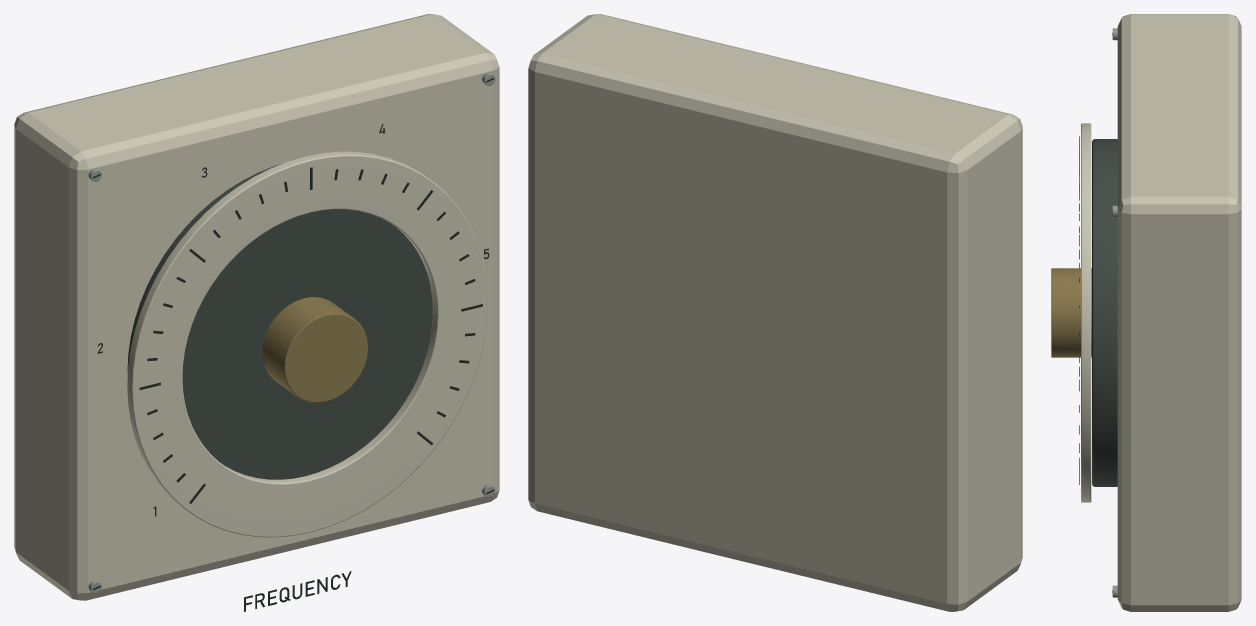
Rendered from FREQUENCY_Housing.fbx.
3 views of the same model, side by side, from view 1: azimuth 30°, elevation 25°; view 2: azimuth 150°, elevation 25°; view 3: azimuth 270°, elevation 25° (orthographic). The views are drawn at different scales.
Parts seen in each view (by area): view 1: FREQUENCY_Housing_EXPORT; view 2: FREQUENCY_Housing_EXPORT; view 3: FREQUENCY_Housing_EXPORT.
Part boxes in pixels (bbox=[...]): FREQUENCY_Housing_EXPORT: bbox=[14, 14, 499, 611]; FREQUENCY_Housing_EXPORT: bbox=[528, 14, 1022, 611]; FREQUENCY_Housing_EXPORT: bbox=[1051, 14, 1241, 611].
Bounding box in the file's own units: 0.347 × 0.3764 × 0.1445.
